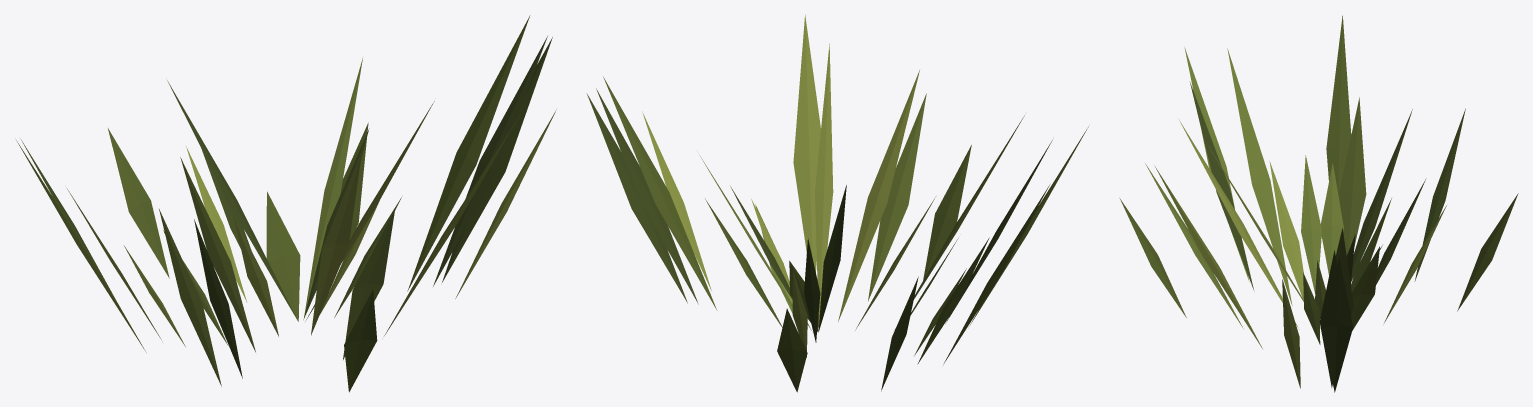
The model's file is grass.glb.
3 renders of one model, left to right at view 1: azimuth 30°, elevation 25°; view 2: azimuth 150°, elevation 25°; view 3: azimuth 270°, elevation 25°, orthographic. The views are drawn at different scales.
Parts seen in each view (by area): view 1: grass; view 2: grass; view 3: grass.
Boxes of the visible parts, bbox=[...] form: grass: bbox=[16, 15, 556, 392]; grass: bbox=[586, 14, 1088, 392]; grass: bbox=[1119, 15, 1518, 392].
Size of the model in its own units: 0.8733 by 0.411 by 0.6736.
